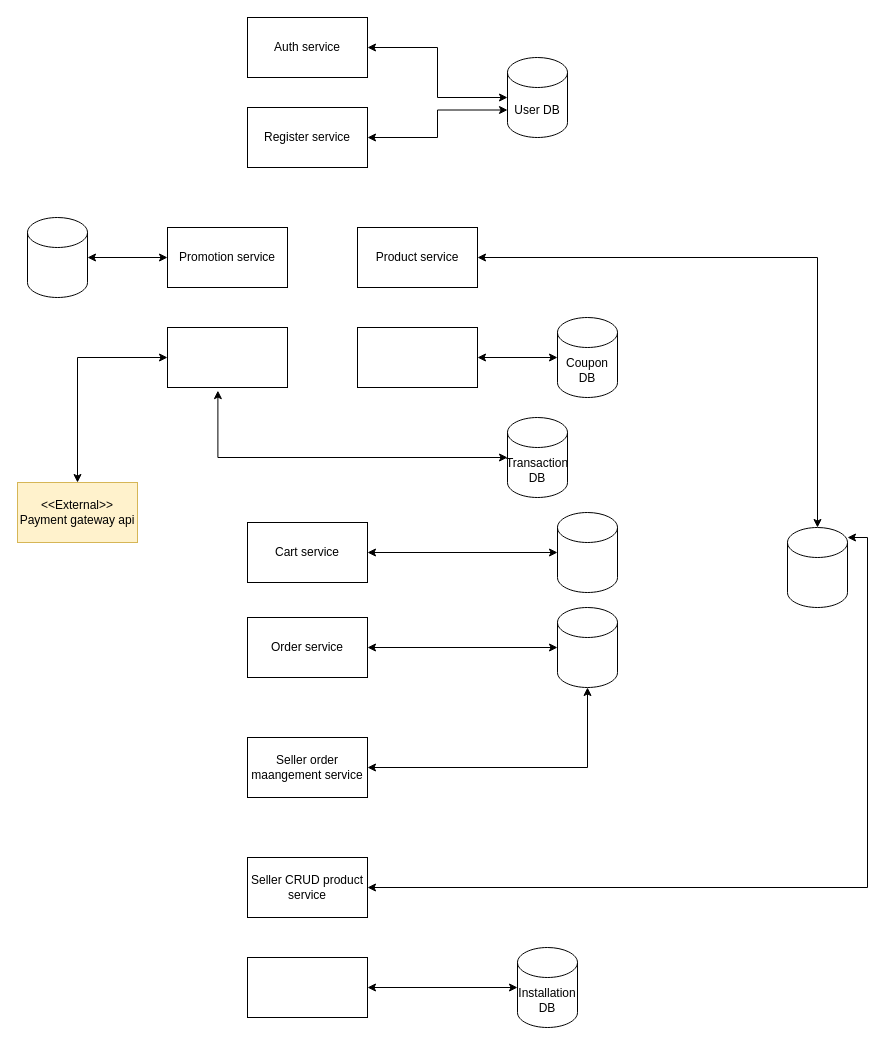
The diagram is 894 pixels wide and 1045 high, and some of its shapes have lost their labels. Each missing label, with the box of its shape:
Cart DB: (556, 512, 618, 592)
Coupon service: (356, 326, 478, 388)
Installation service: (246, 956, 368, 1018)
Order DB: (556, 606, 618, 688)
Payment service: (166, 326, 288, 388)
Product DB: (786, 526, 848, 608)
Promotion DB: (26, 216, 88, 298)
